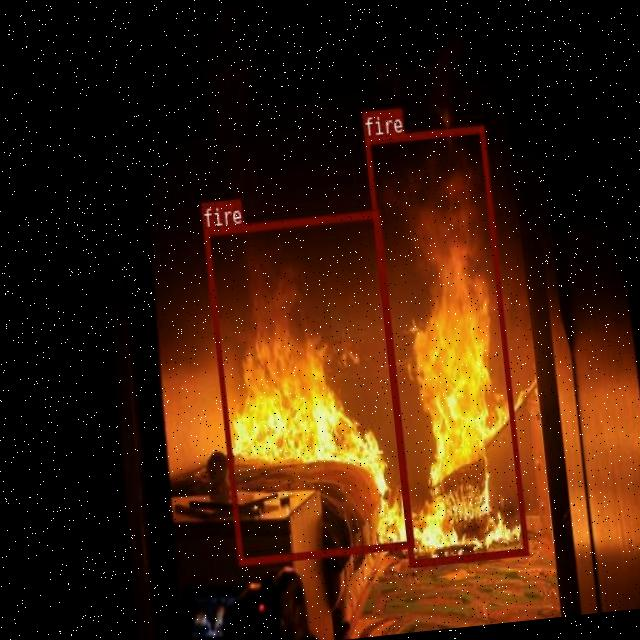fire: (202, 208, 413, 564), (363, 124, 528, 565)
